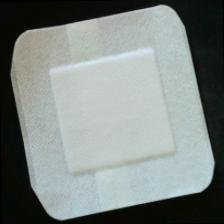Dressing: (7, 4, 219, 224)
